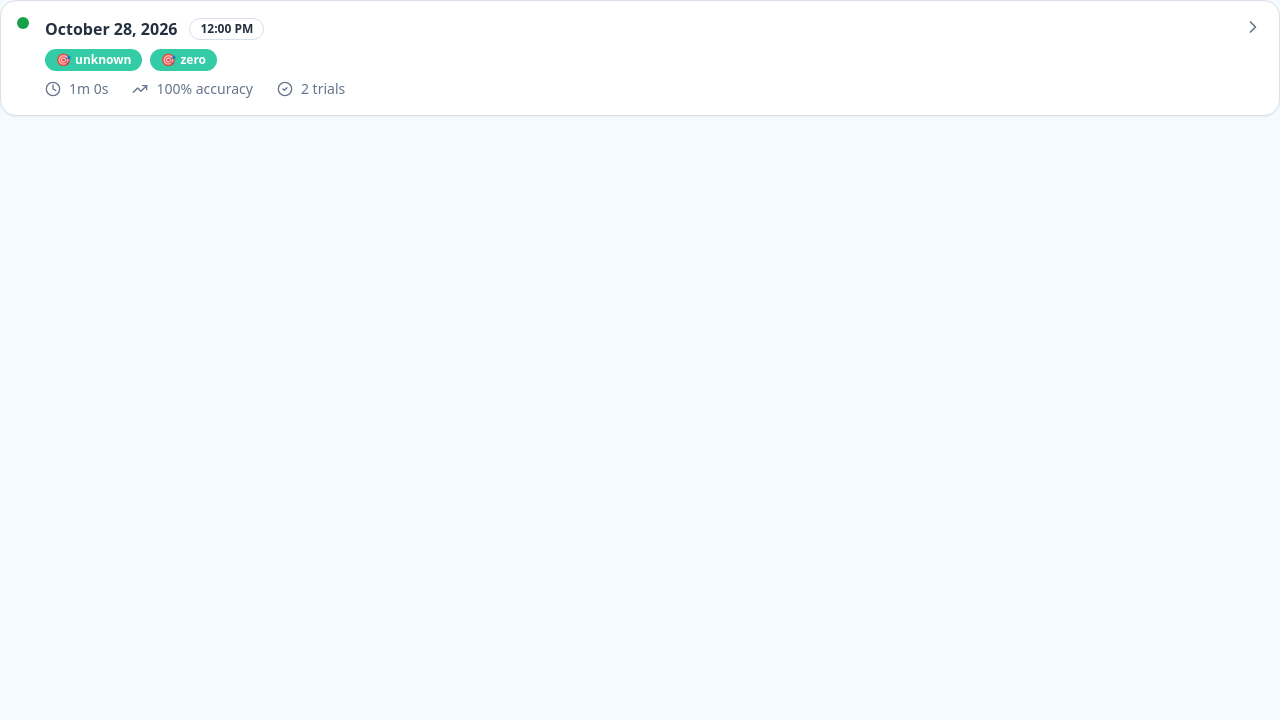
Scenario: session response-time displays › history timeline distinguishes an unavailable average from a measured zero
Click the heading "October 28, 2026" at (111, 29), box [45,17,178,41]
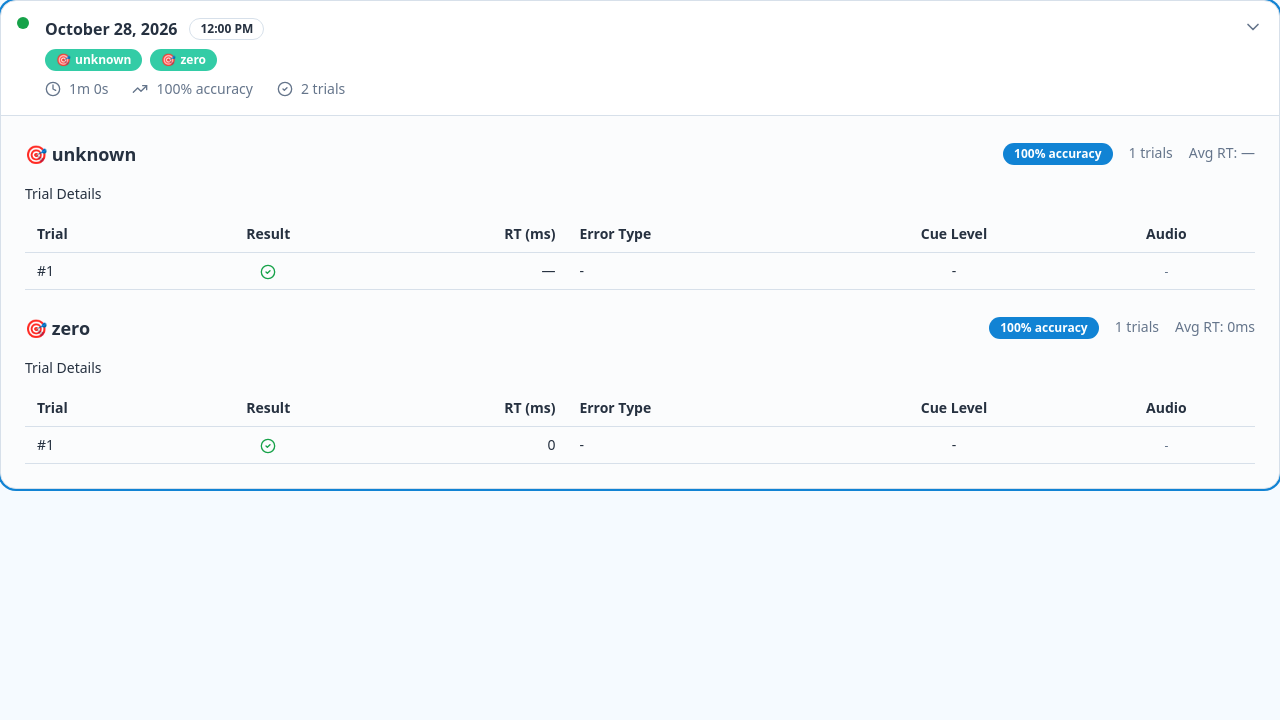
Expected: the text "Avg RT: —" is shown, [1189,143,1255,165]
Expected: the text "Avg RT: 0ms" is shown, [1175,317,1255,339]
